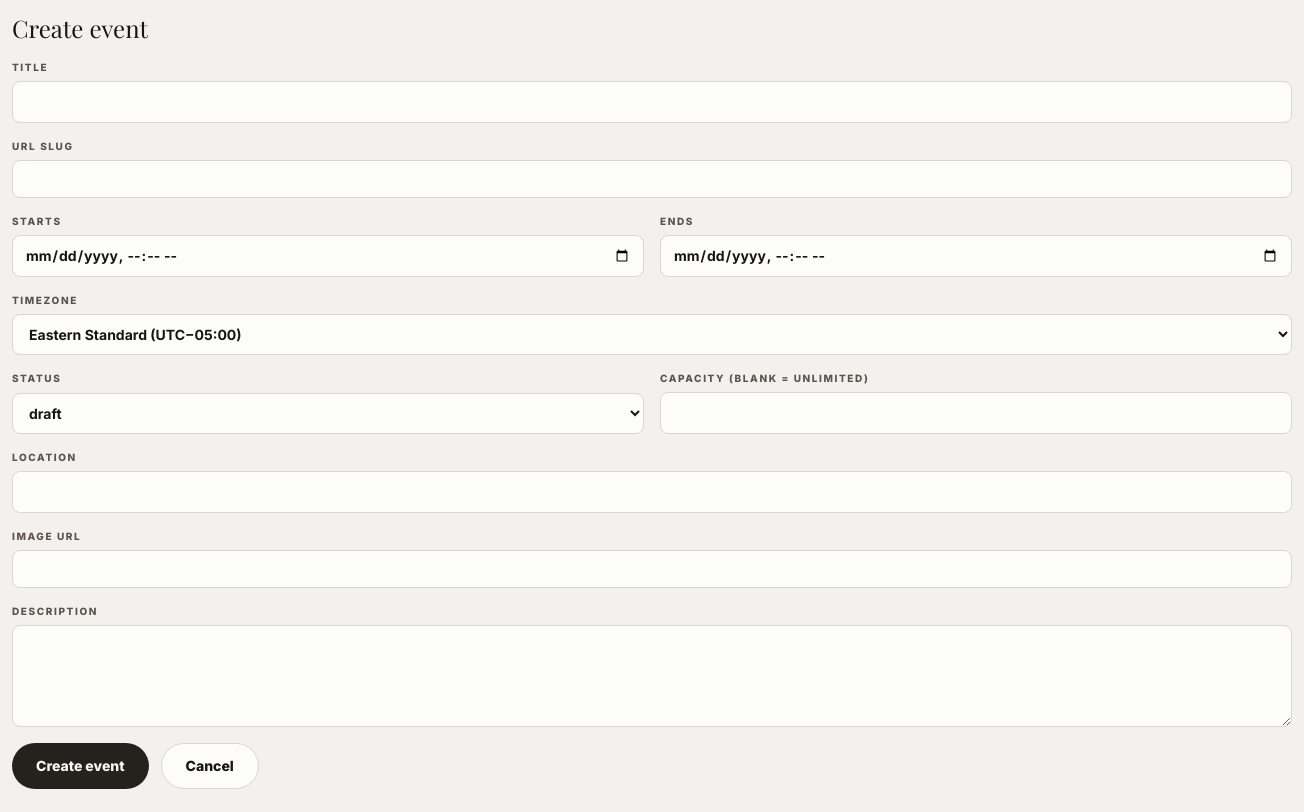
Test: invalid capacity 1.5 never reaches the event adapter
Type "Sandbox event" into the field labelled "Title" at [652, 102], box [12,81,1292,123]
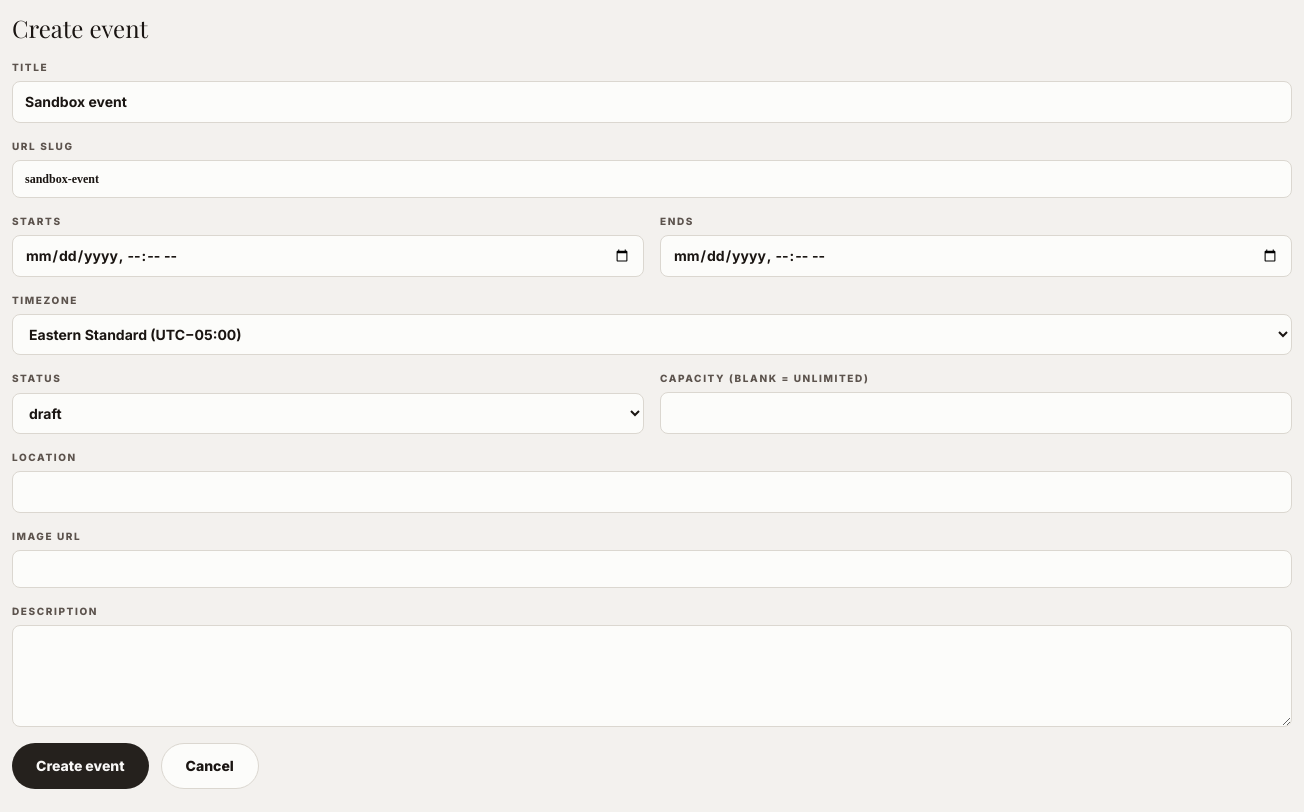
Type "2099-06-01T10:00" into the field labelled "Starts" at [328, 256], box [12,235,644,277]
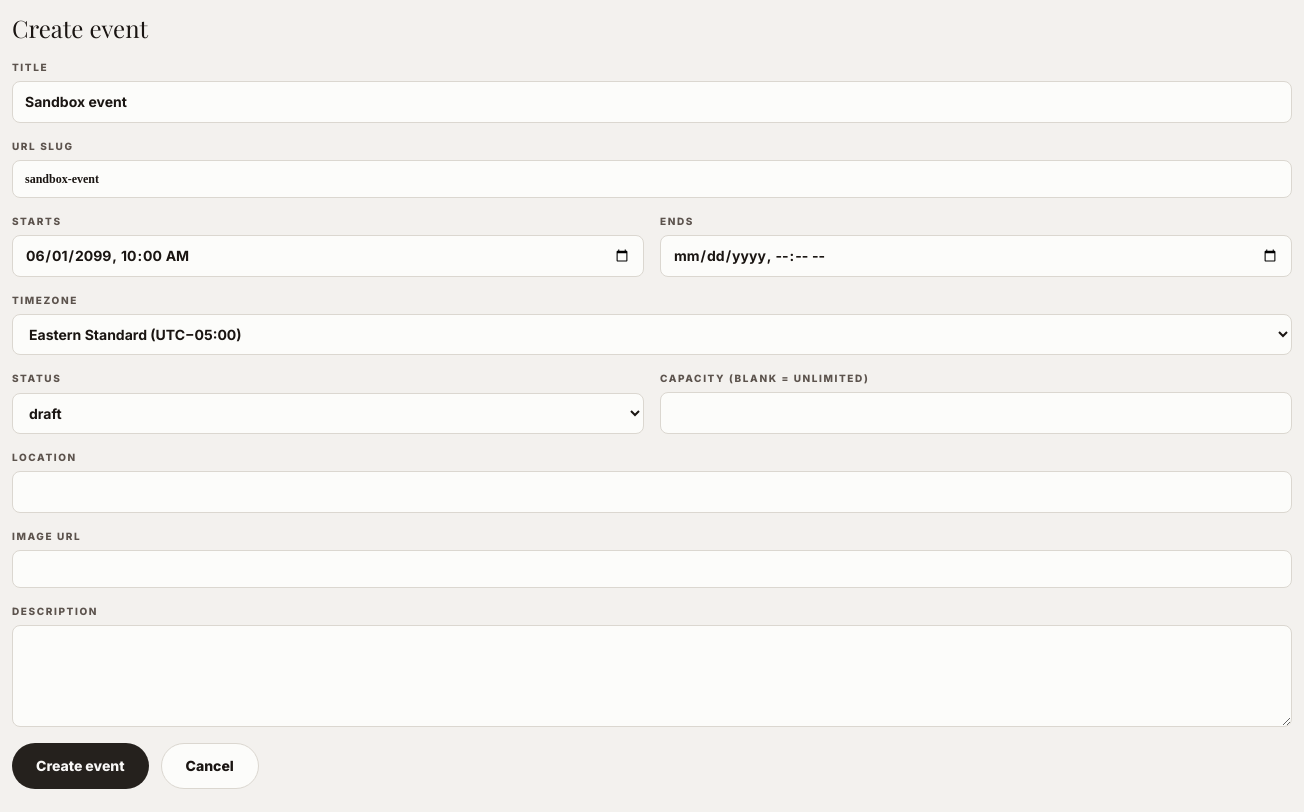
Type "2099-06-01T11:00" into the field labelled "Ends" at [976, 256], box [660,235,1292,277]
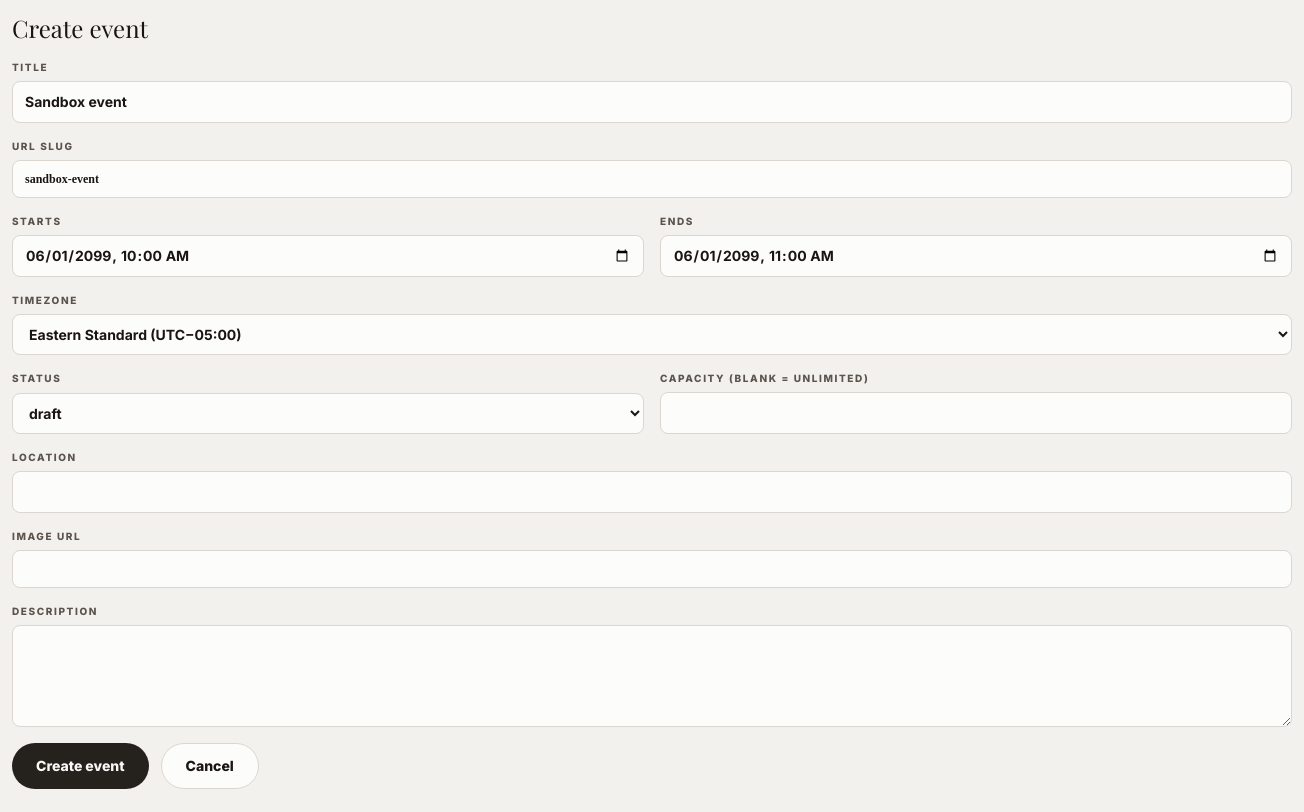
Type "1.5" into the field labelled "Capacity (blank = unlimited)" at [976, 413], box [660,392,1292,434]
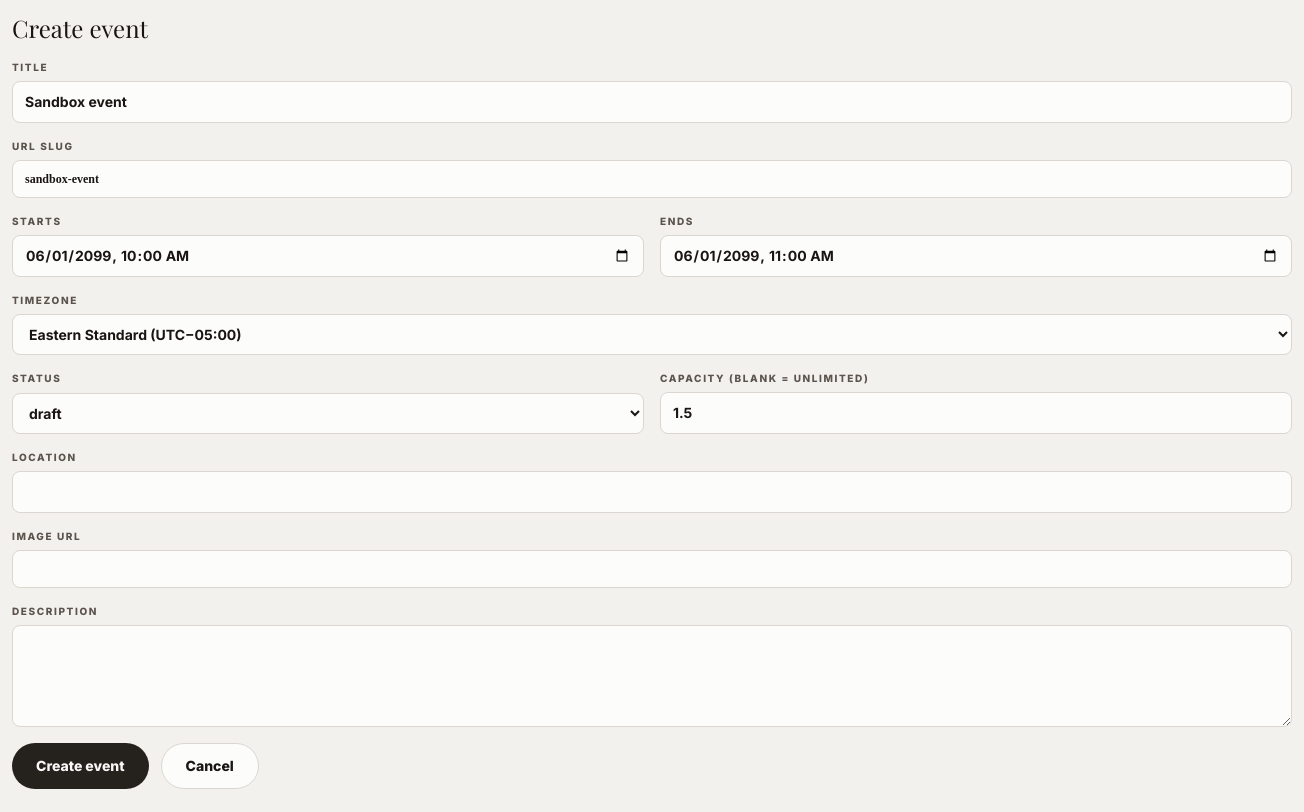
Click the button "Create event" at [80, 766], box [12,743,149,789]
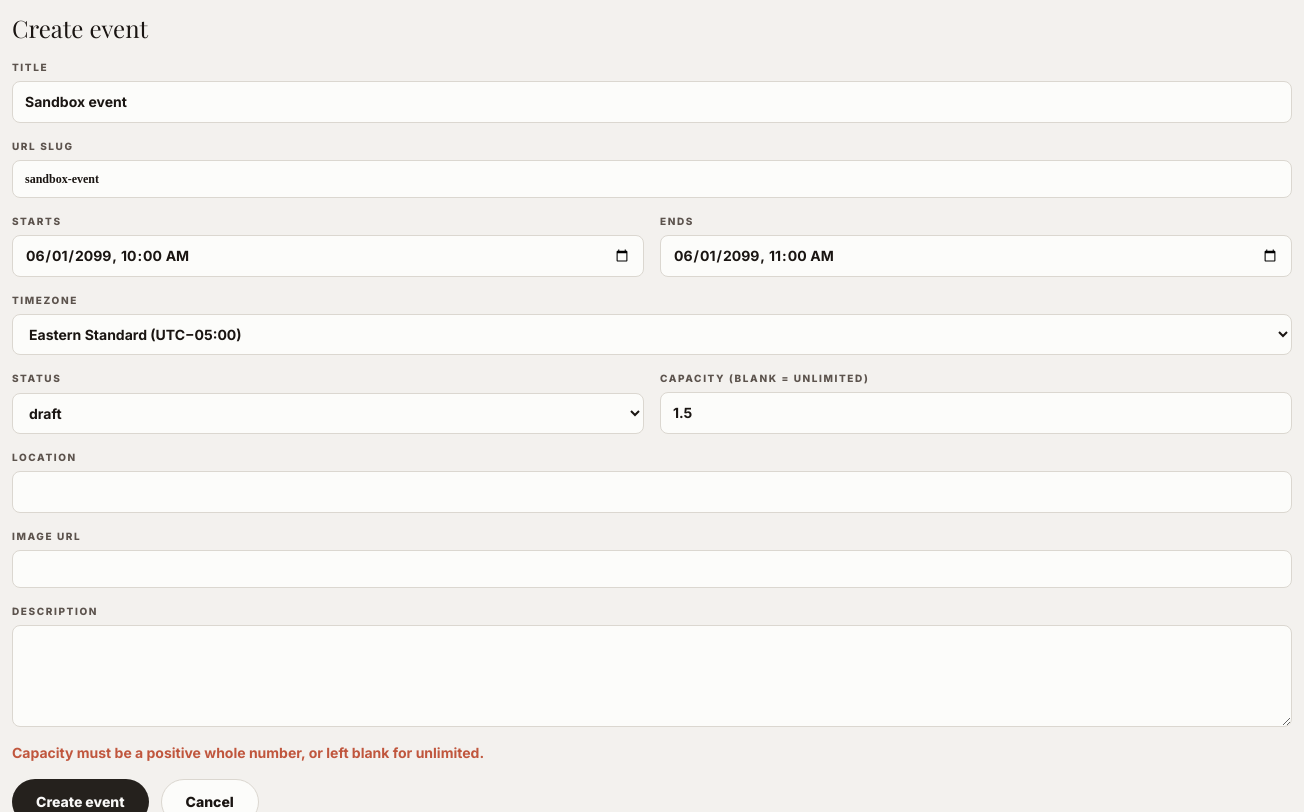
Expected: the text "Capacity must be a positive whole number" is shown, [12,744,484,761]
